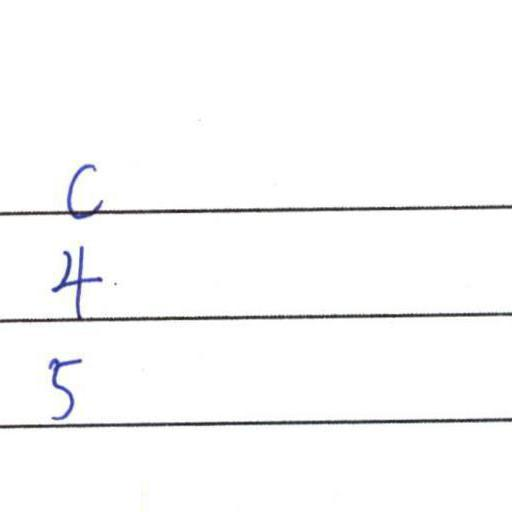ans: (45, 238, 102, 318), (38, 346, 82, 421), (58, 156, 106, 221)
